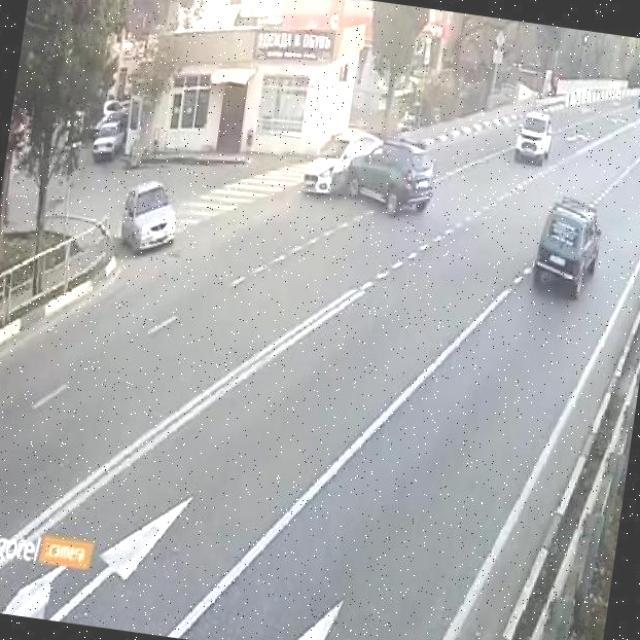accident: (294, 105, 446, 224)
